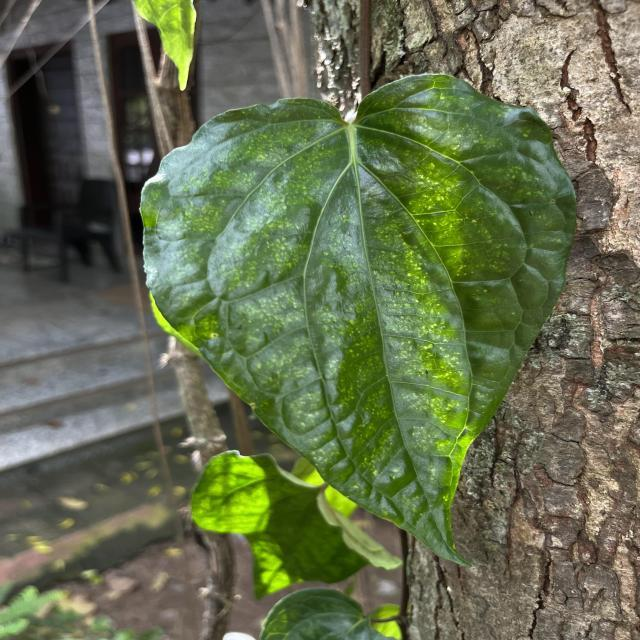Piper betle: (135, 70, 582, 572)
